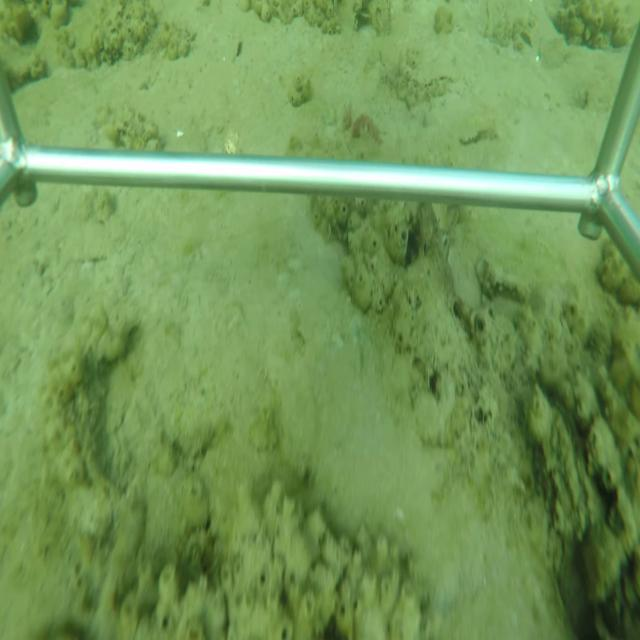Oyster-Indeterminate: (529, 387, 598, 533)
